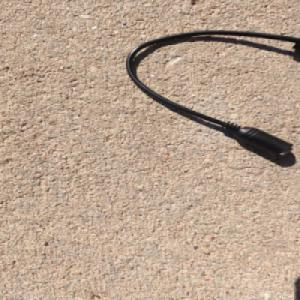Wire: (122, 28, 300, 155)
